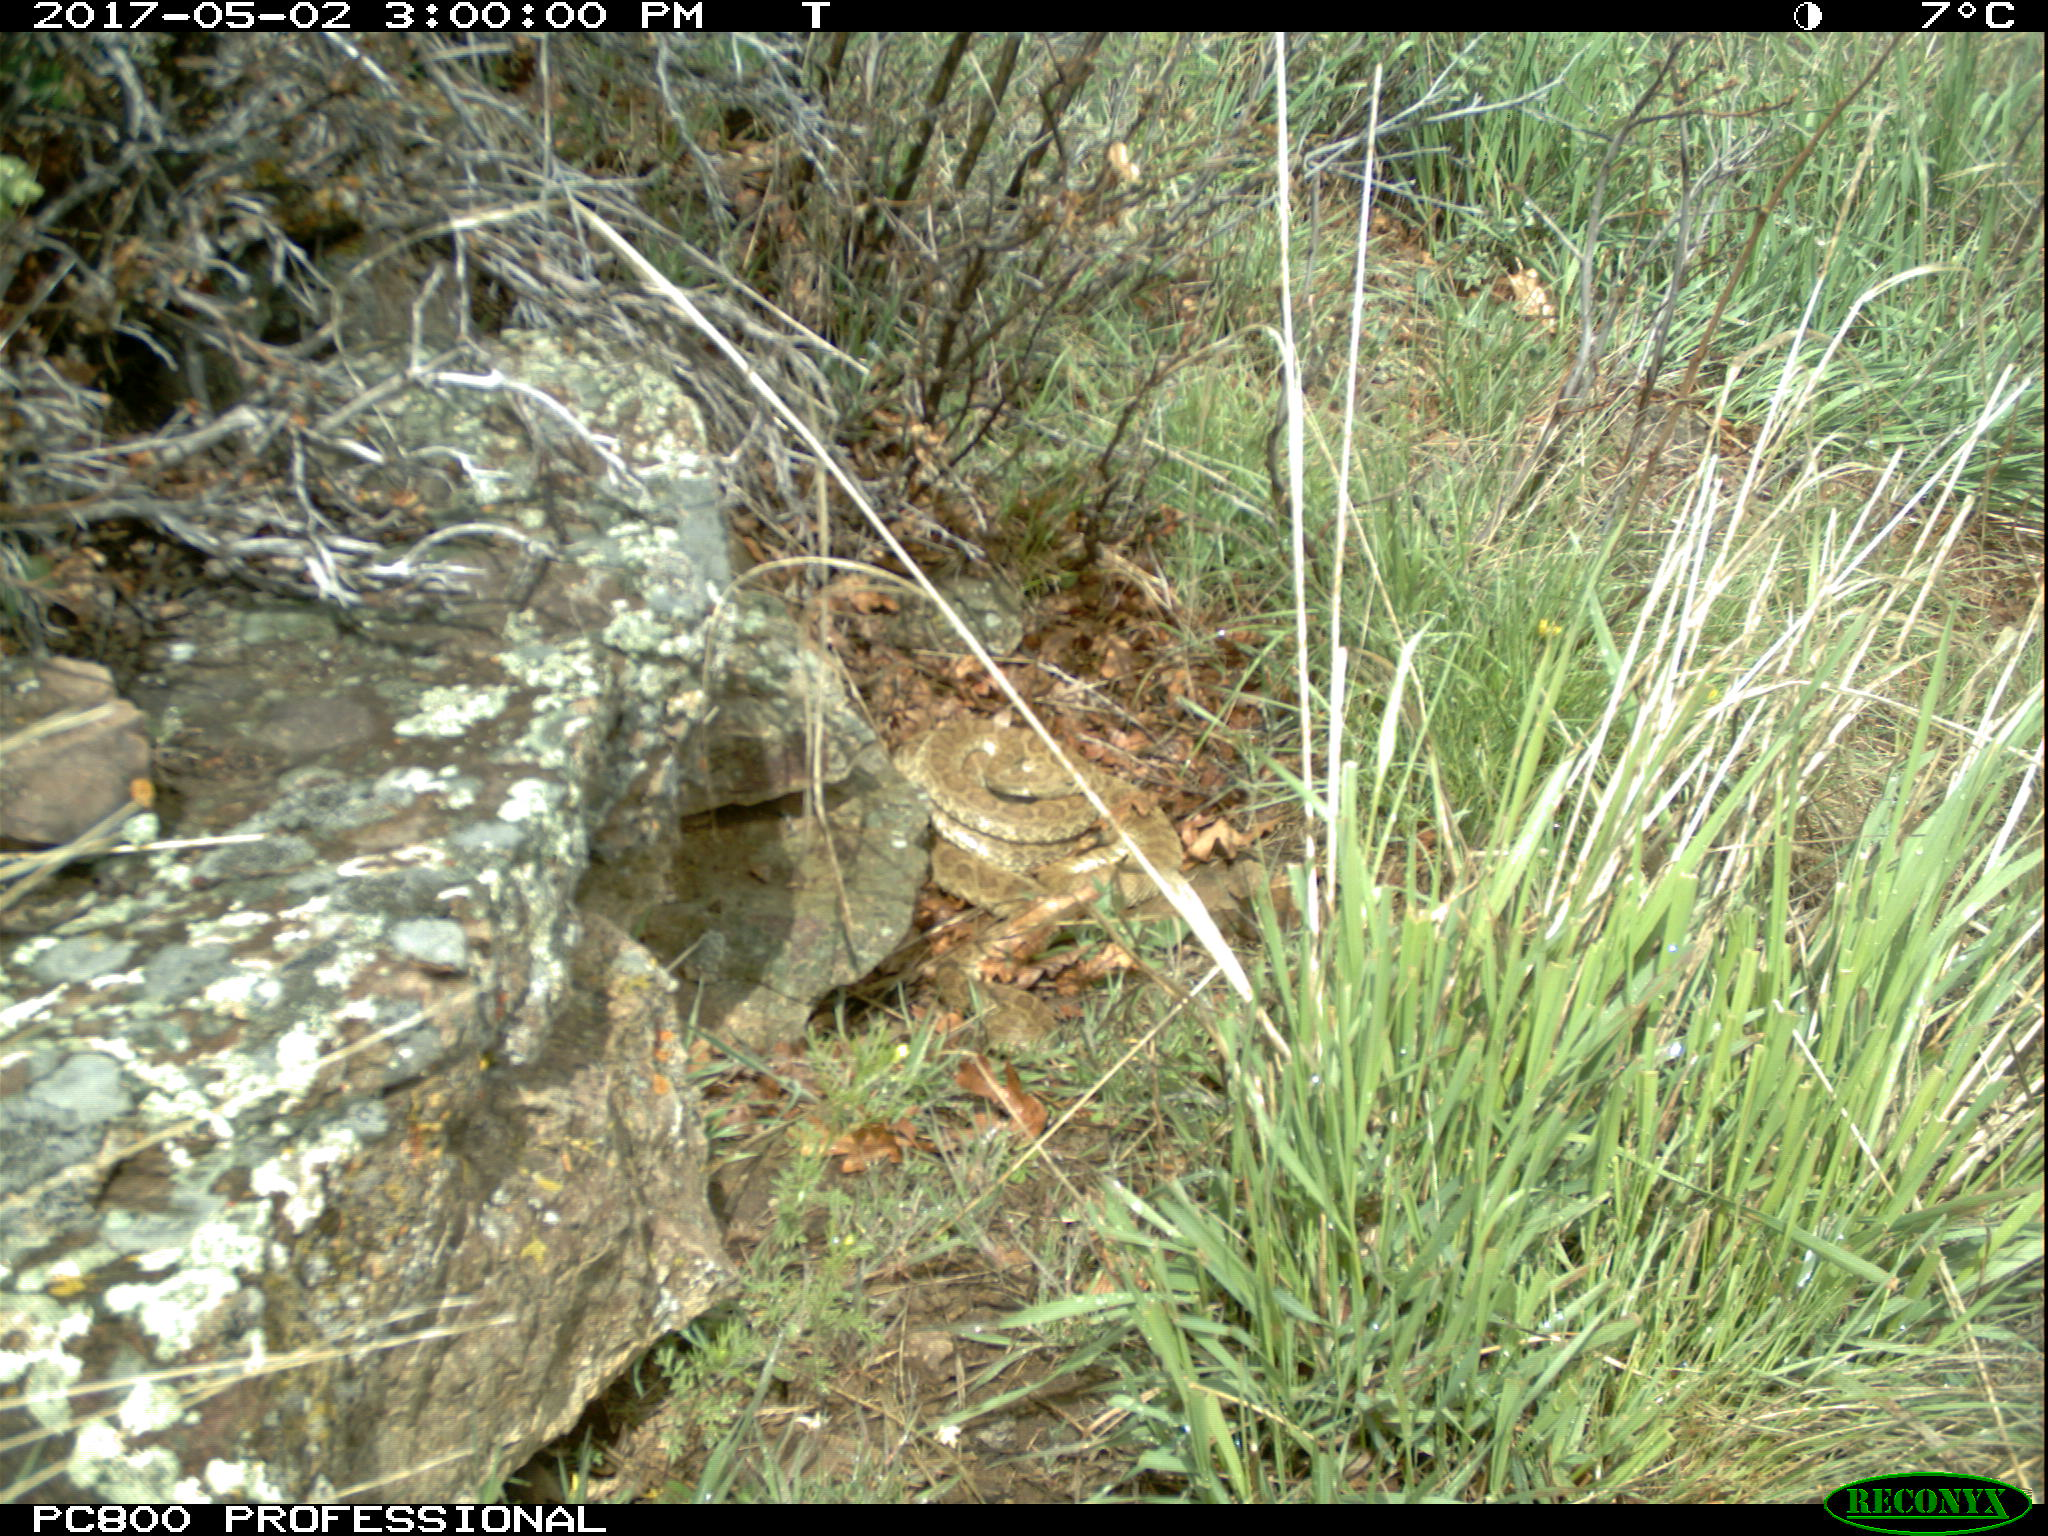snake: (898, 720, 1190, 1058)
